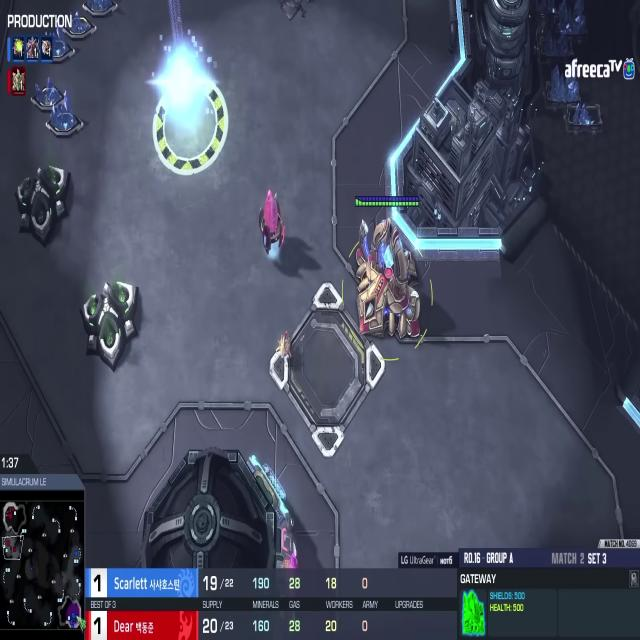probe: (272, 328, 297, 368)
